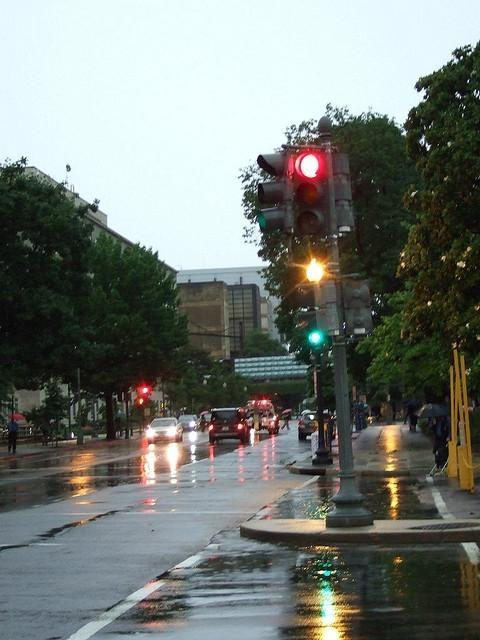car: (209, 405, 252, 445), (145, 417, 185, 445), (298, 411, 318, 441), (178, 414, 198, 432)
truck: (244, 401, 280, 434)
